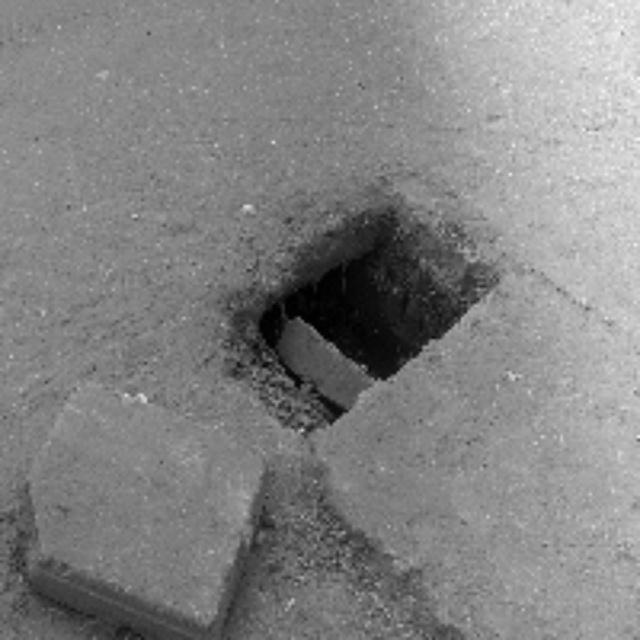Pothole: (239, 221, 486, 416)
